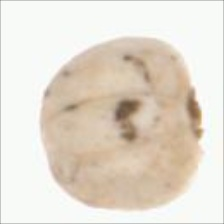L5: (42, 94, 184, 156), (182, 68, 207, 165)
L6: (37, 35, 207, 211)
